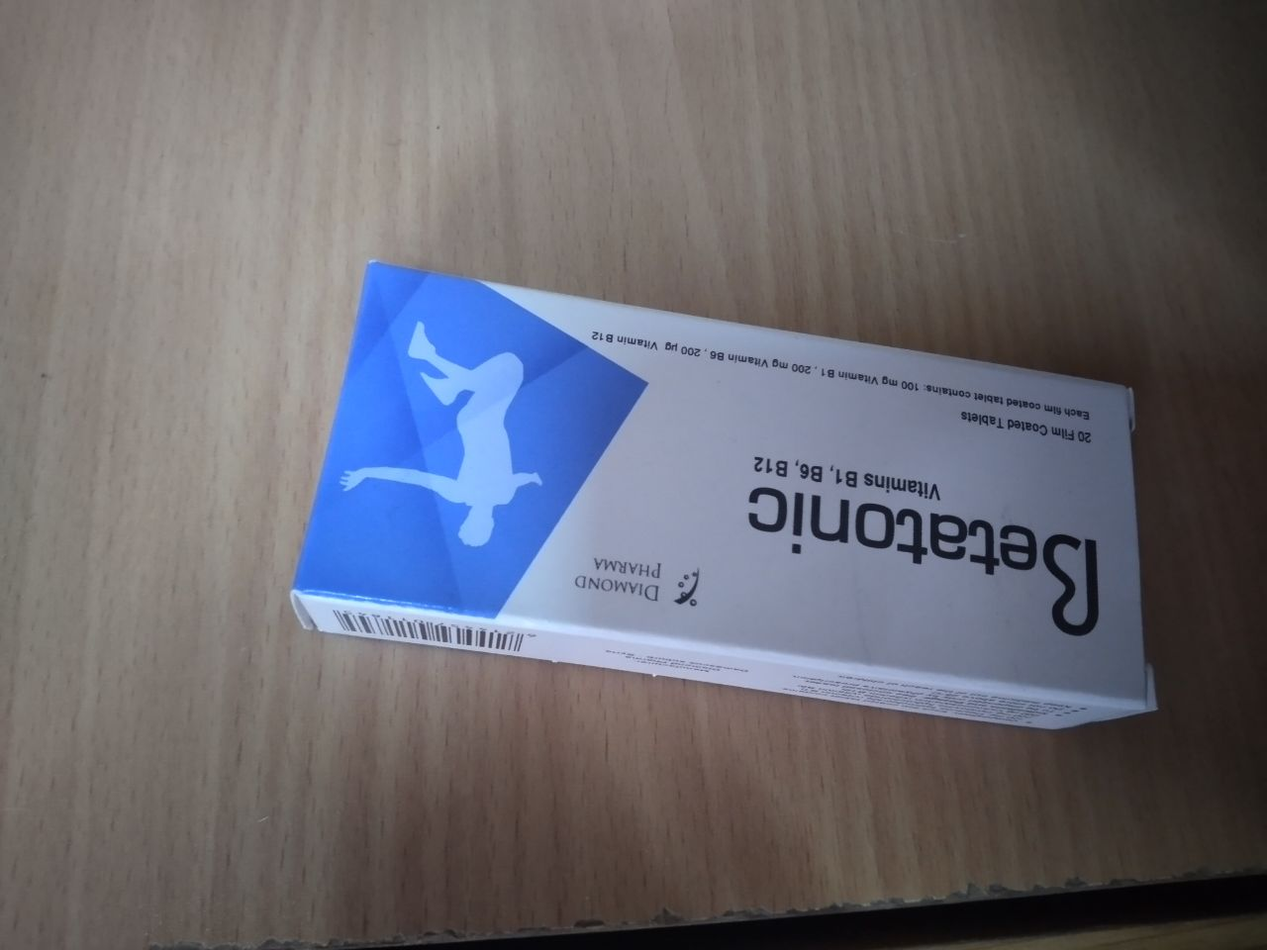Medicine: (275, 242, 1175, 735)
